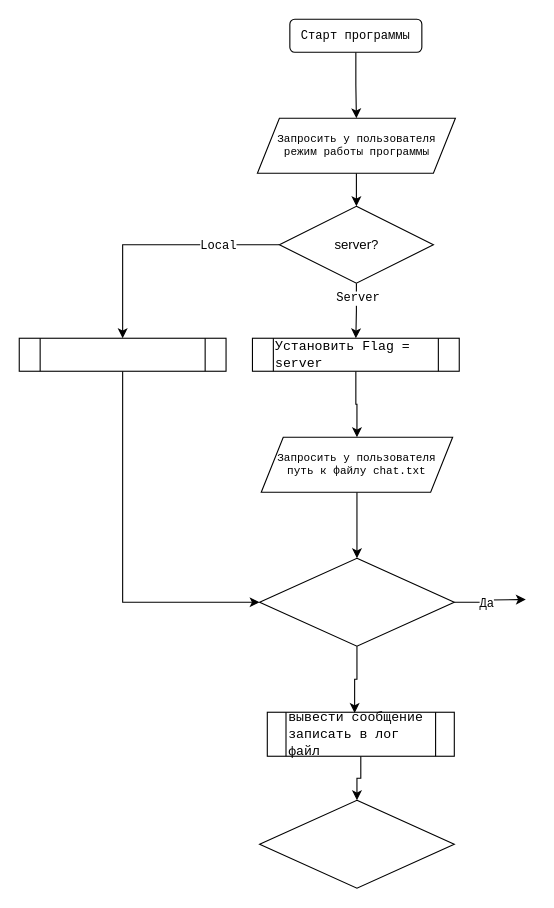
This 554x908 diagram has some shape labels left out. The centre of each missing label's shape, as x and y in pixels:
"Какой Flag?" belongs at [356,843].
"Установить Flag = local" belongs at [122,354].
"файл chat.txt найден?" belongs at [356,601].
